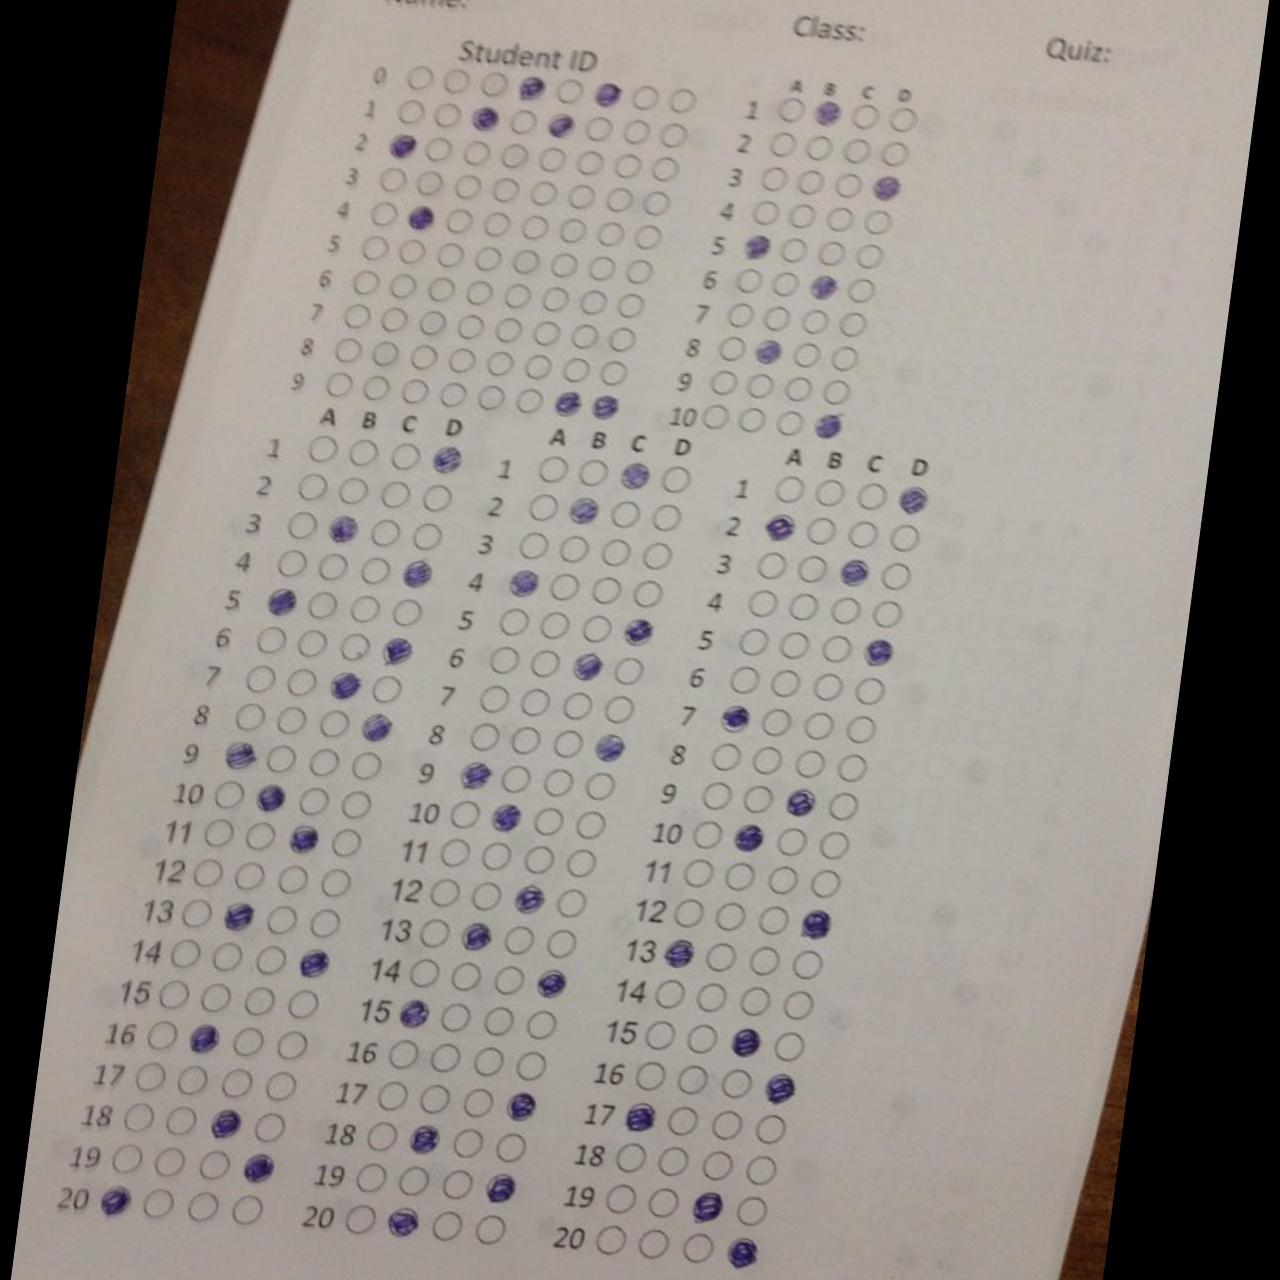not-c: (538, 925, 583, 964), (151, 975, 193, 1012), (139, 1015, 182, 1051), (136, 1184, 178, 1220), (247, 1109, 290, 1145), (238, 817, 280, 853), (147, 1145, 188, 1182), (205, 939, 246, 975), (247, 940, 288, 976), (192, 1145, 233, 1182), (281, 985, 322, 1021), (302, 904, 343, 940), (271, 862, 312, 898), (313, 864, 354, 900), (229, 856, 270, 892), (704, 738, 745, 775), (225, 1023, 267, 1058), (171, 1062, 211, 1098), (324, 824, 363, 860), (520, 1005, 560, 1041), (361, 1118, 401, 1155), (436, 1165, 476, 1201), (634, 1224, 674, 1260), (647, 974, 687, 1010), (687, 816, 727, 852), (696, 776, 736, 812), (790, 551, 830, 587), (776, 625, 816, 661), (763, 663, 803, 700), (770, 822, 810, 858), (699, 937, 738, 973), (704, 1107, 744, 1143), (696, 1148, 736, 1184), (641, 1184, 681, 1220), (117, 1099, 158, 1135), (105, 1141, 147, 1176), (159, 1103, 200, 1138), (239, 980, 280, 1015), (216, 1064, 257, 1099), (227, 1192, 268, 1227), (268, 1029, 309, 1064), (738, 1152, 779, 1187), (678, 1228, 719, 1264), (678, 855, 719, 890), (162, 937, 204, 971), (424, 1039, 463, 1075), (469, 1042, 508, 1078), (414, 1081, 452, 1117), (470, 1211, 509, 1247), (733, 625, 771, 661), (763, 862, 802, 898), (717, 859, 756, 896), (712, 897, 750, 933), (673, 1060, 712, 1096), (195, 980, 234, 1015), (182, 1189, 222, 1224), (258, 1068, 298, 1103), (260, 901, 300, 937), (435, 1000, 475, 1035), (383, 1036, 423, 1071), (509, 1047, 549, 1082), (457, 1083, 497, 1118), (372, 1078, 411, 1114), (350, 1159, 390, 1194), (393, 1160, 433, 1196), (731, 1192, 771, 1227), (591, 1221, 631, 1257), (628, 1056, 668, 1091), (639, 1017, 679, 1053), (723, 661, 763, 696), (744, 585, 784, 620), (751, 547, 791, 583), (784, 588, 824, 624), (745, 742, 785, 777), (736, 781, 776, 816), (754, 903, 794, 938), (744, 944, 784, 979), (734, 983, 774, 1019), (692, 980, 731, 1015), (652, 1143, 692, 1178), (663, 1103, 703, 1138), (490, 1129, 527, 1165), (479, 1003, 518, 1039), (339, 1201, 377, 1237), (448, 1125, 486, 1160), (756, 703, 795, 738), (681, 1020, 720, 1055), (715, 1065, 754, 1101), (271, 546, 311, 580), (332, 474, 372, 508), (386, 595, 425, 629), (302, 744, 342, 778), (129, 1058, 169, 1092), (462, 719, 502, 753), (434, 835, 474, 869), (809, 477, 849, 511), (750, 1110, 790, 1144), (599, 1182, 639, 1216), (610, 1141, 649, 1175), (667, 896, 707, 930), (788, 745, 828, 779), (542, 570, 583, 602), (252, 622, 291, 656), (505, 722, 544, 756), (547, 726, 586, 760), (578, 768, 617, 802), (518, 843, 557, 877), (568, 806, 607, 840), (425, 1208, 464, 1242), (230, 699, 270, 731), (365, 515, 404, 547), (343, 592, 383, 625), (406, 520, 445, 553), (345, 748, 384, 781), (293, 784, 333, 817), (207, 777, 247, 810), (515, 686, 554, 719), (655, 462, 695, 495), (586, 572, 626, 605), (605, 498, 645, 531), (576, 611, 615, 644), (495, 762, 535, 795), (560, 845, 600, 878), (498, 922, 538, 955), (874, 558, 914, 591), (799, 515, 840, 546), (384, 437, 423, 470), (281, 509, 320, 542), (312, 550, 350, 583), (355, 553, 394, 586), (417, 481, 456, 513), (261, 741, 300, 774), (198, 815, 237, 847), (188, 855, 226, 887), (176, 896, 215, 928), (532, 451, 571, 484), (524, 647, 563, 680), (647, 502, 686, 535), (636, 538, 675, 571), (627, 576, 666, 608), (598, 692, 636, 724), (537, 765, 576, 798), (444, 796, 483, 829), (550, 886, 588, 919), (424, 874, 463, 907), (415, 915, 454, 948), (489, 964, 527, 996), (850, 479, 888, 512), (884, 520, 922, 553), (866, 597, 905, 629), (838, 713, 877, 745), (832, 751, 871, 784), (777, 987, 816, 1020), (302, 433, 342, 464), (291, 627, 331, 659), (374, 478, 414, 510), (365, 673, 404, 704), (483, 644, 523, 675), (556, 690, 595, 722), (607, 654, 647, 686), (474, 839, 513, 871), (467, 878, 506, 910), (840, 518, 880, 550), (847, 674, 887, 706), (822, 791, 862, 823), (812, 830, 852, 862), (768, 1030, 808, 1062), (797, 709, 837, 741), (313, 707, 350, 740), (595, 536, 633, 568), (404, 954, 442, 987), (343, 435, 382, 467), (292, 470, 331, 502), (240, 662, 279, 694), (280, 666, 319, 697), (301, 588, 340, 620), (335, 629, 374, 661), (271, 704, 309, 736), (336, 789, 375, 821), (523, 492, 561, 524), (513, 530, 552, 561), (493, 605, 532, 636), (474, 682, 512, 714), (533, 608, 572, 640), (552, 533, 591, 565), (573, 455, 612, 486), (527, 806, 566, 838), (445, 960, 484, 992), (769, 474, 808, 505), (804, 866, 843, 898), (787, 947, 825, 979), (825, 593, 864, 625), (817, 632, 856, 663), (809, 670, 847, 702), (611, 290, 647, 321), (425, 100, 463, 130), (413, 305, 450, 335), (783, 200, 821, 231), (822, 203, 859, 233), (526, 318, 561, 349), (356, 232, 393, 263), (347, 266, 383, 297), (374, 305, 410, 335), (392, 236, 428, 266), (409, 166, 445, 197), (457, 135, 493, 165), (610, 149, 646, 179), (406, 340, 442, 370), (459, 277, 496, 307), (469, 243, 505, 273), (545, 250, 581, 280), (481, 347, 517, 377), (536, 284, 572, 314), (715, 331, 751, 361), (772, 234, 809, 265), (845, 100, 881, 130), (830, 170, 866, 200), (770, 408, 806, 438), (740, 370, 777, 400), (365, 198, 400, 229), (319, 368, 354, 399), (438, 64, 474, 95), (622, 256, 658, 286), (600, 184, 635, 215), (525, 177, 560, 207), (448, 170, 483, 200), (397, 375, 433, 406), (451, 312, 486, 342), (478, 207, 513, 238), (506, 246, 542, 277), (472, 381, 508, 411), (510, 384, 545, 415), (764, 128, 799, 158), (757, 162, 792, 192), (730, 263, 765, 293), (704, 366, 740, 396), (839, 135, 874, 165), (813, 238, 849, 268), (850, 241, 885, 272), (817, 376, 852, 407), (778, 373, 813, 403), (787, 338, 822, 368), (329, 335, 366, 365), (367, 336, 403, 366), (418, 134, 455, 163), (503, 105, 539, 135), (493, 141, 530, 170), (571, 145, 607, 175), (653, 120, 689, 149), (551, 76, 587, 105), (617, 116, 653, 145), (573, 287, 610, 316), (590, 219, 626, 248), (563, 181, 599, 210), (440, 205, 476, 234), (433, 380, 469, 409), (442, 343, 478, 373), (515, 212, 551, 241), (488, 314, 524, 343), (518, 350, 554, 380), (721, 300, 757, 329), (733, 403, 769, 433), (757, 301, 794, 331), (791, 166, 828, 196), (884, 105, 920, 135), (384, 270, 418, 300), (772, 93, 806, 123), (339, 300, 374, 329), (474, 69, 509, 98), (533, 144, 568, 173), (627, 81, 662, 110), (580, 113, 615, 142), (636, 186, 672, 216), (628, 222, 663, 251), (602, 324, 638, 353), (595, 358, 631, 387), (565, 322, 600, 352), (581, 253, 617, 282), (485, 173, 520, 203), (431, 239, 467, 268), (423, 273, 458, 302), (553, 215, 588, 244), (498, 280, 533, 309), (747, 195, 782, 224), (859, 207, 894, 237), (877, 138, 912, 168), (826, 342, 862, 372), (795, 307, 830, 336), (401, 63, 437, 91), (557, 356, 593, 384), (765, 268, 802, 297), (842, 275, 878, 304), (358, 372, 392, 401), (697, 400, 731, 429), (835, 308, 869, 338), (393, 97, 428, 125), (373, 165, 408, 193), (645, 155, 680, 183), (663, 86, 699, 114), (799, 134, 835, 162)
taken-c: (617, 1096, 661, 1136), (720, 1232, 763, 1272), (685, 1189, 727, 1228), (373, 629, 416, 668), (234, 1148, 278, 1186), (890, 479, 934, 517), (322, 666, 365, 704), (712, 699, 755, 736), (756, 509, 799, 546), (319, 509, 362, 546), (395, 554, 438, 592), (279, 818, 322, 856), (726, 1024, 768, 1062), (655, 935, 697, 973), (257, 581, 299, 619), (855, 634, 898, 670), (832, 553, 876, 590), (215, 896, 258, 932), (757, 1070, 799, 1107), (794, 905, 836, 941), (425, 440, 468, 476), (353, 709, 395, 745), (247, 779, 290, 816), (292, 942, 334, 979), (181, 1019, 223, 1055), (203, 1104, 245, 1141), (91, 1182, 134, 1218), (216, 737, 259, 772), (779, 784, 821, 821), (727, 821, 769, 856), (393, 996, 433, 1032), (452, 758, 493, 792), (455, 918, 493, 953), (529, 966, 568, 1000), (381, 1203, 421, 1237), (561, 495, 602, 527), (404, 1121, 443, 1155), (566, 649, 606, 682), (484, 799, 524, 832), (509, 881, 549, 914), (613, 459, 654, 491), (501, 566, 542, 598), (617, 615, 658, 647), (588, 731, 629, 763), (501, 1088, 539, 1121), (478, 1171, 517, 1204), (381, 130, 418, 162), (512, 72, 549, 103), (586, 392, 622, 423), (803, 270, 839, 301), (736, 230, 772, 261), (399, 200, 436, 231), (542, 107, 577, 138), (549, 387, 584, 418), (464, 103, 501, 134), (808, 410, 844, 441), (748, 335, 784, 366), (866, 172, 903, 203), (587, 79, 622, 109), (806, 97, 842, 128)
